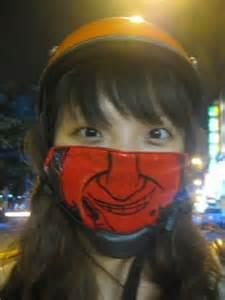OK: (57, 98, 193, 234)
